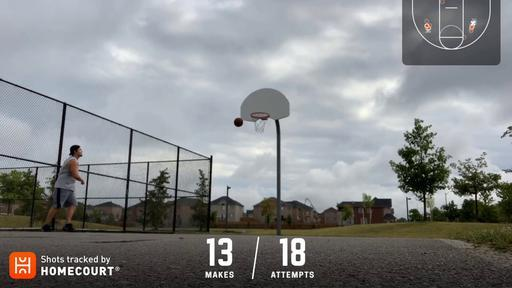ball: (234, 118, 244, 127)
human: (43, 144, 85, 232)
rim: (250, 112, 269, 134)
